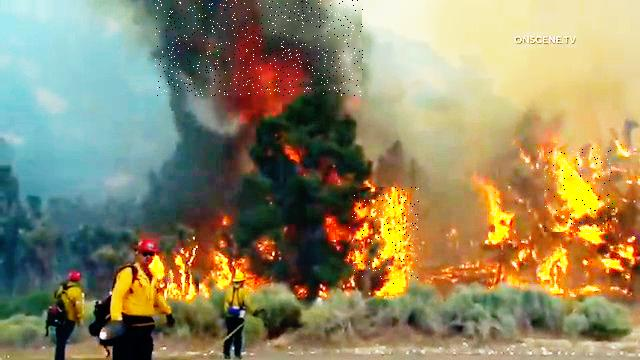fire: (349, 188, 419, 286), (545, 147, 615, 232), (168, 248, 202, 295)
smoke: (155, 0, 363, 96)
